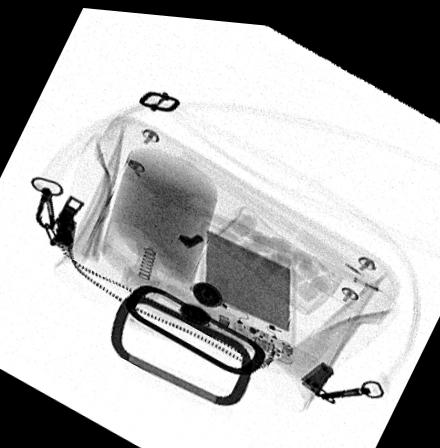Powerbank: (199, 215, 297, 360)
